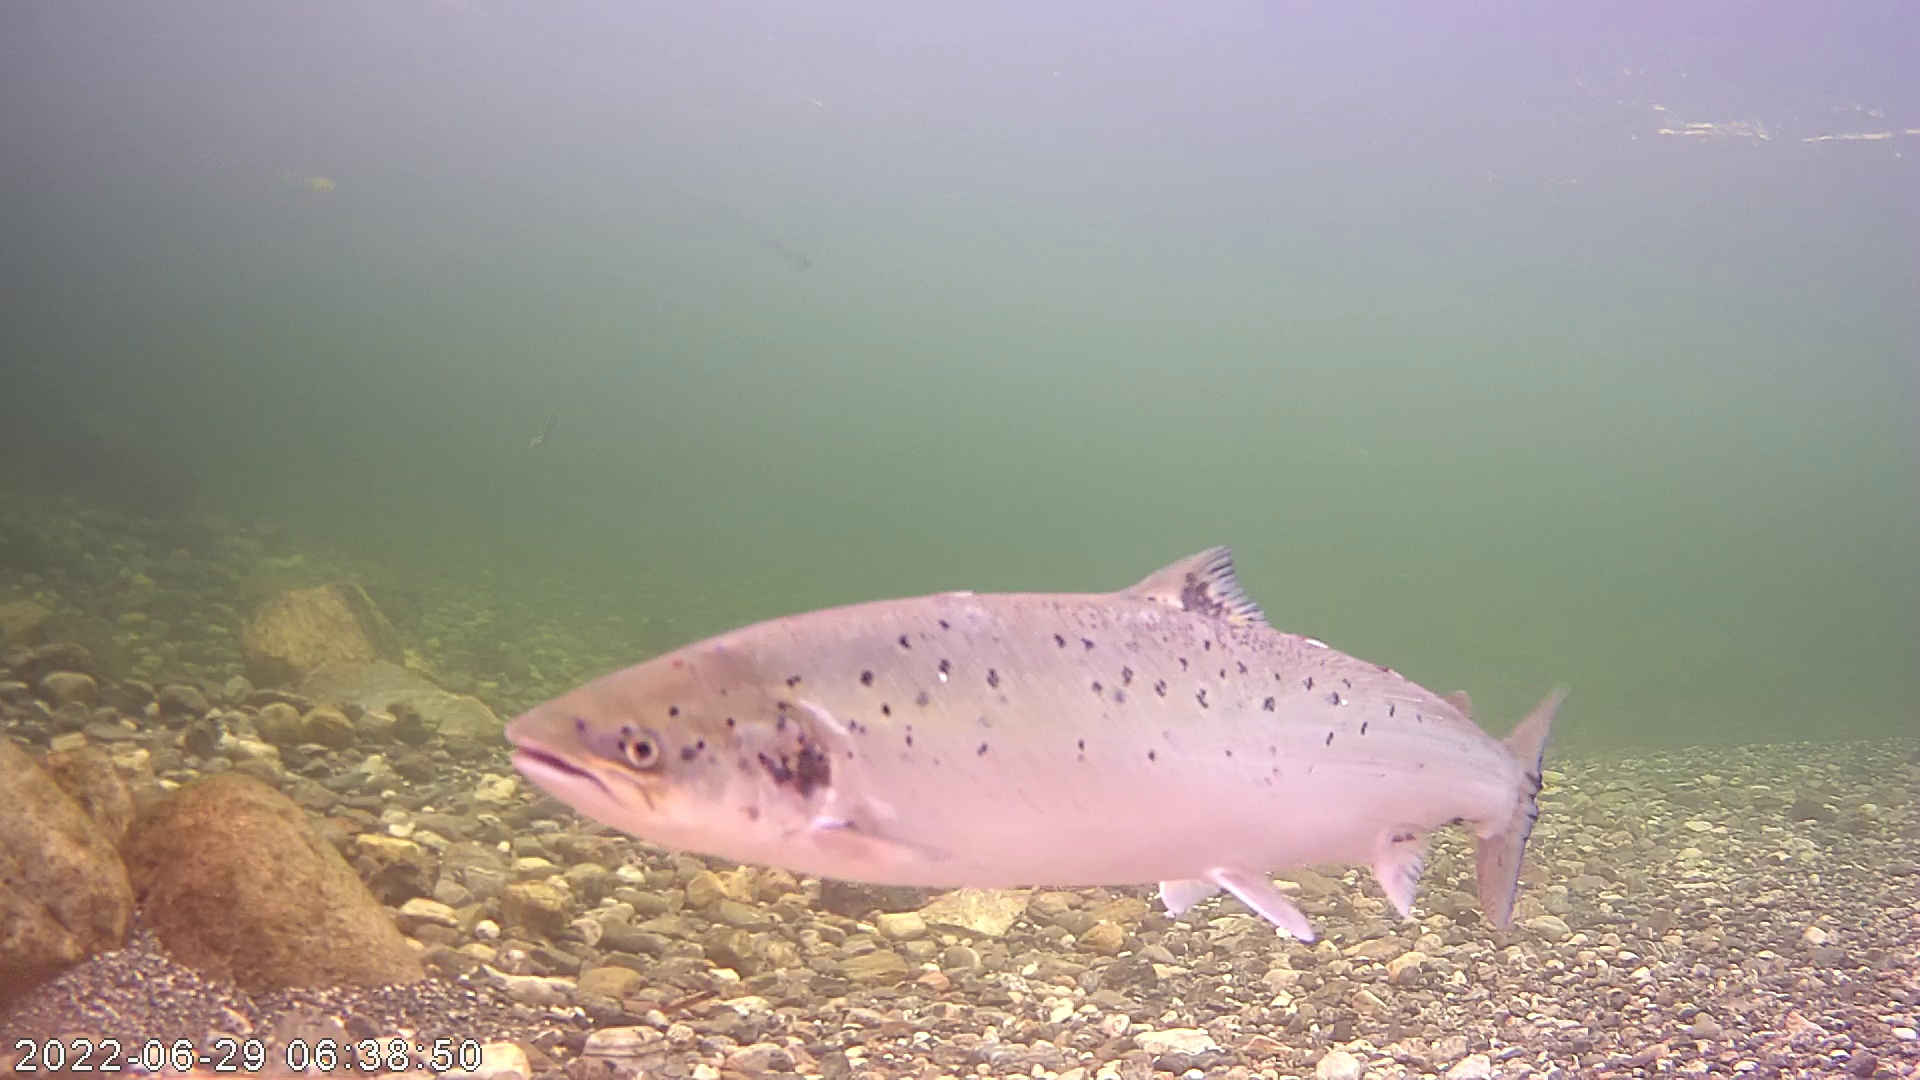salmon: (502, 543, 1571, 945)
